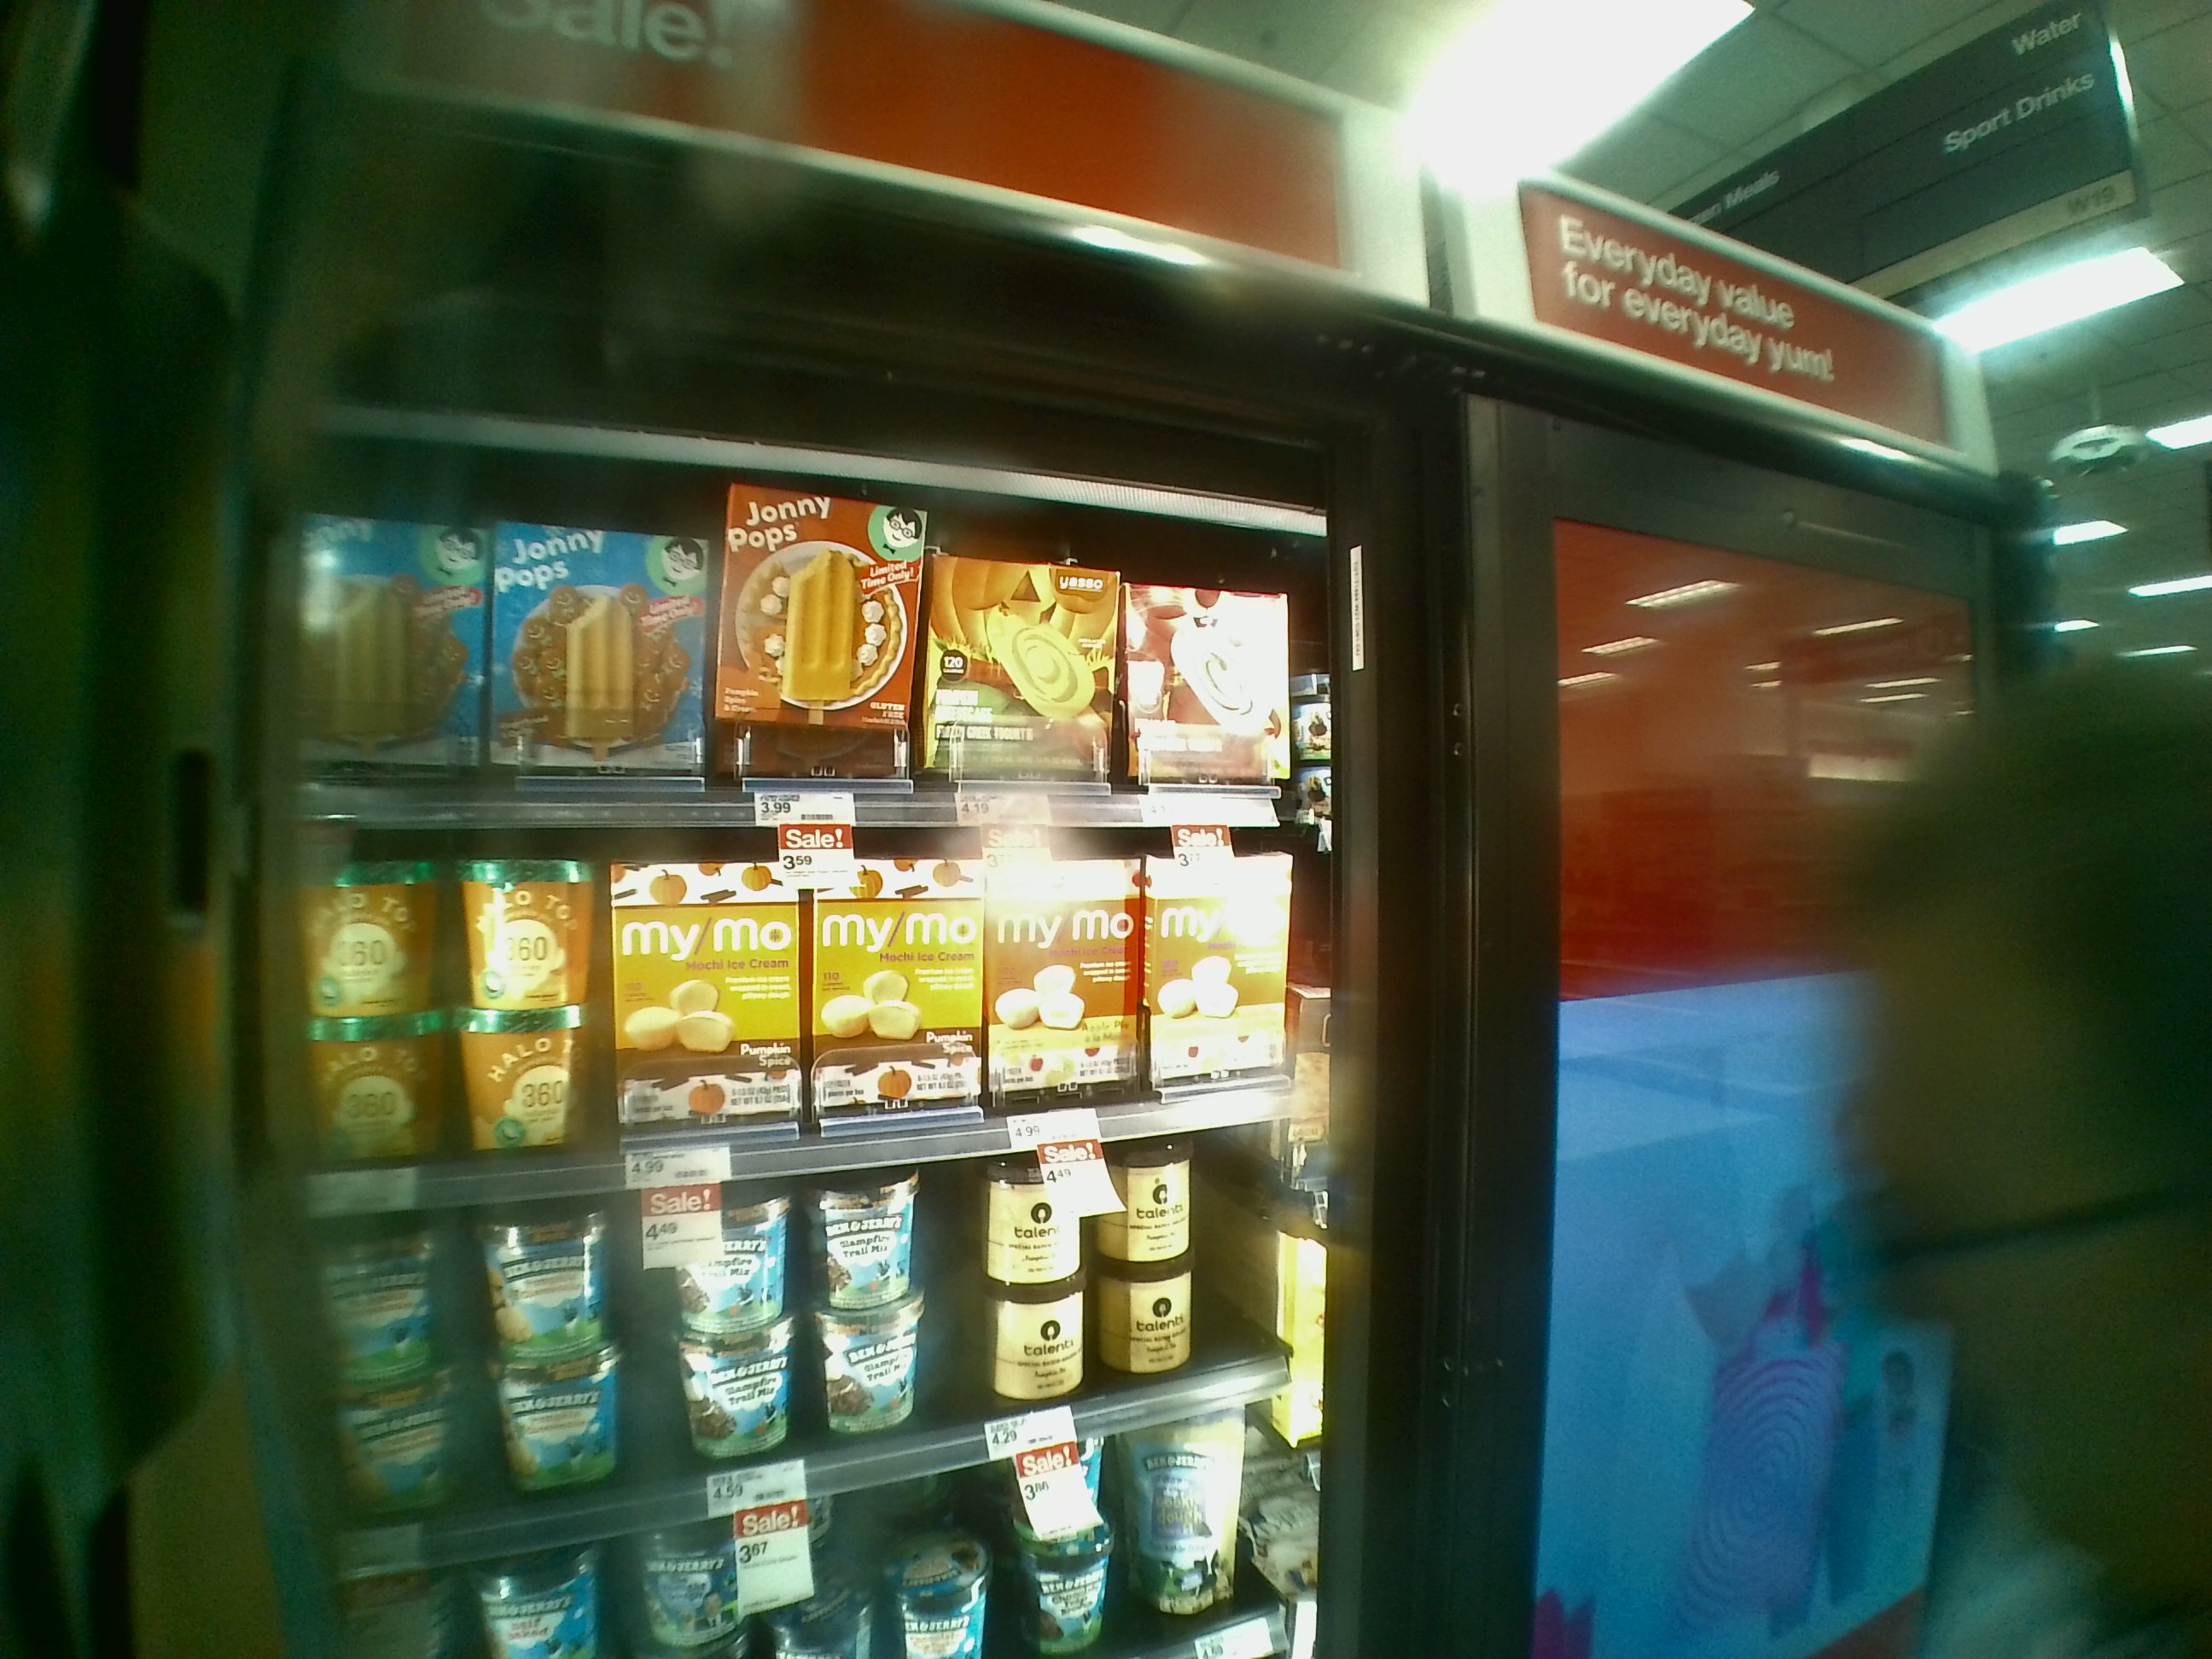shelf: (279, 1166, 1374, 1581), (268, 781, 1338, 1187), (275, 443, 1348, 821)
